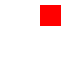square: (40, 5, 60, 25)
